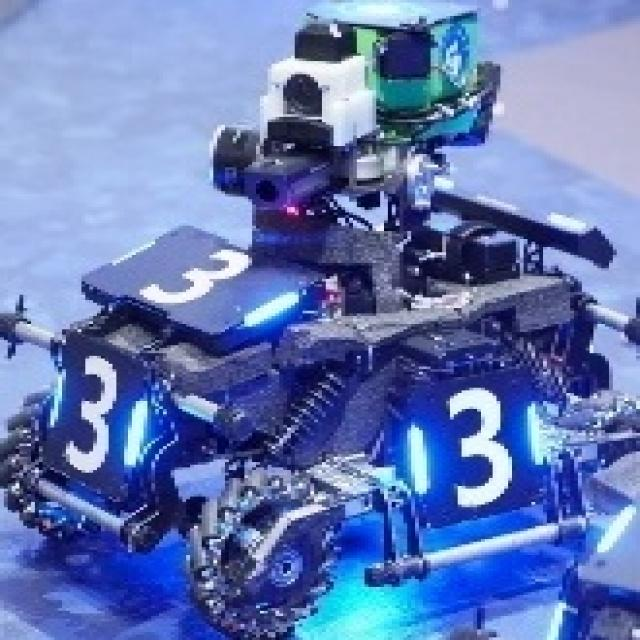B3: (101, 223, 302, 335), (404, 385, 536, 507), (39, 353, 140, 470)
